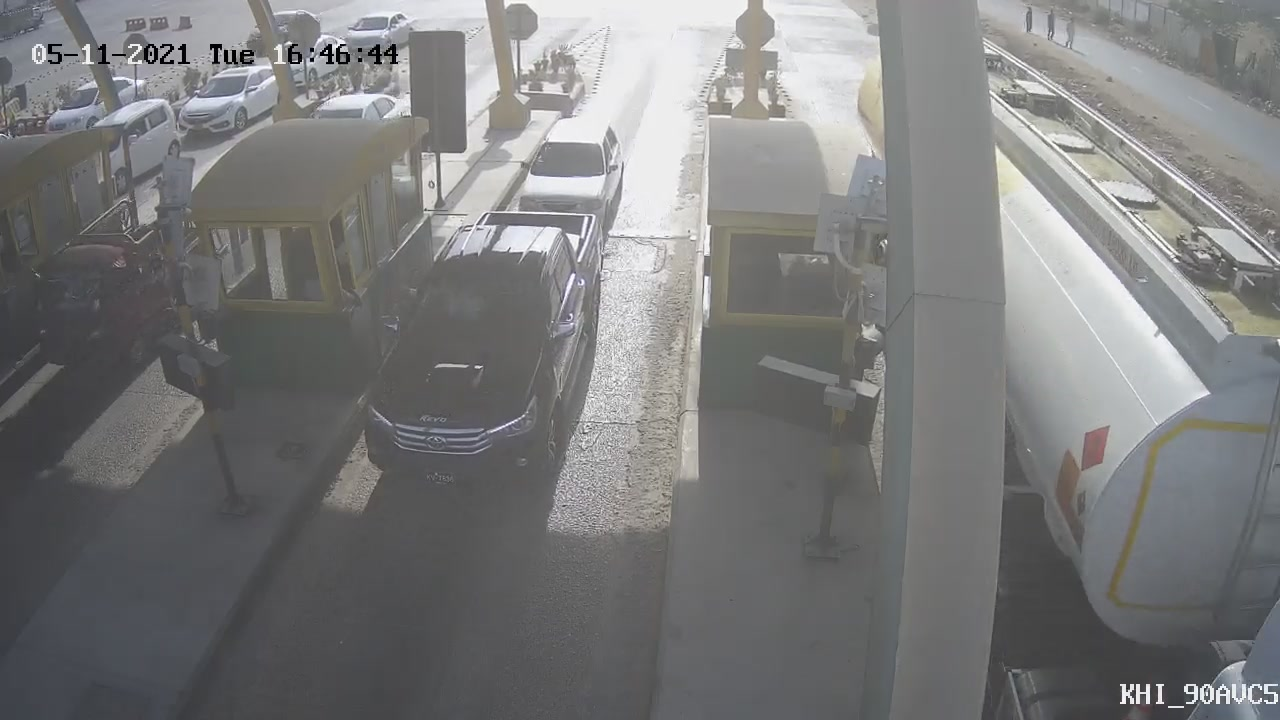F1: (335, 198, 618, 509), (505, 101, 633, 251)
